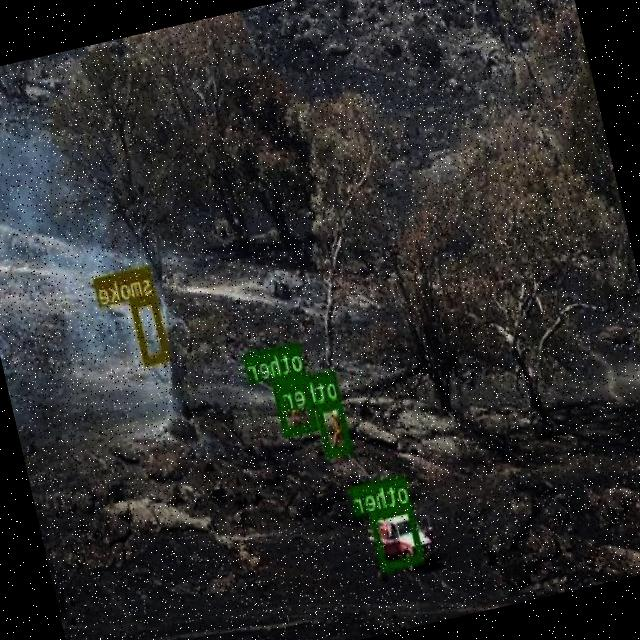smoke: (131, 294, 170, 363)
